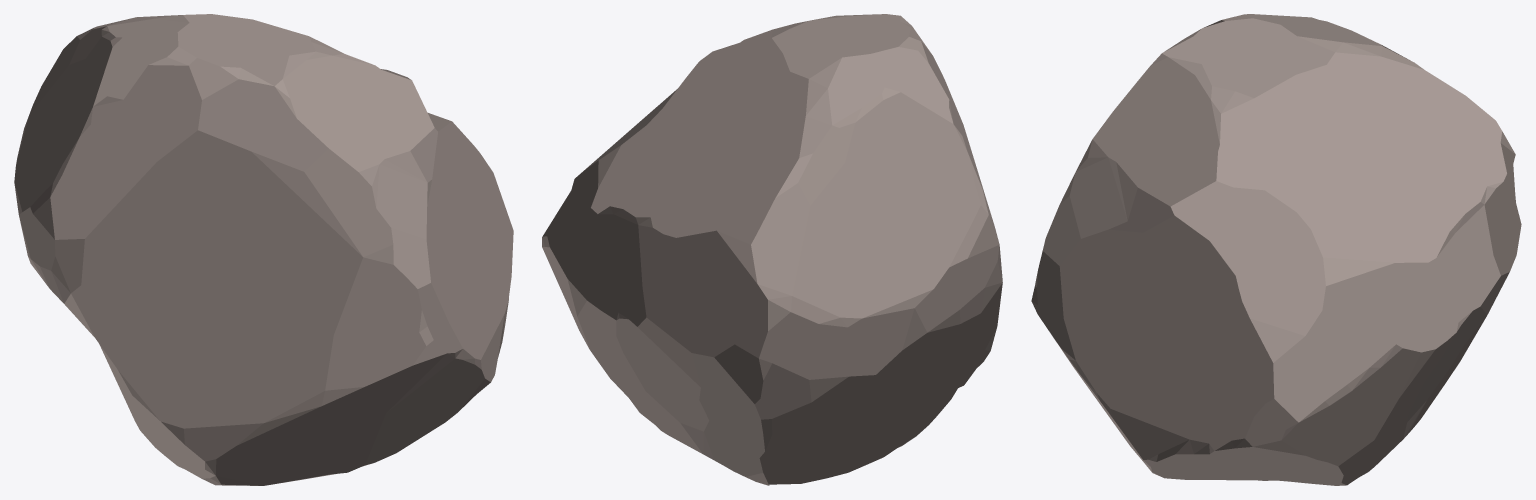
Rendered from Rochas3.fbx.
3 renders of one model, left to right at view 1: azimuth 30°, elevation 25°; view 2: azimuth 150°, elevation 25°; view 3: azimuth 270°, elevation 25°, orthographic. The views are drawn at different scales.
Parts seen in each view (by area): view 1: Cube.018; view 2: Cube.018; view 3: Cube.018.
Boxes of the visible parts, x1,y1,x2,y2 form: Cube.018: (14, 14, 513, 485); Cube.018: (542, 14, 1002, 485); Cube.018: (1031, 14, 1521, 485).
Bounding box in the file's own units: 113 × 97.83 × 114.
